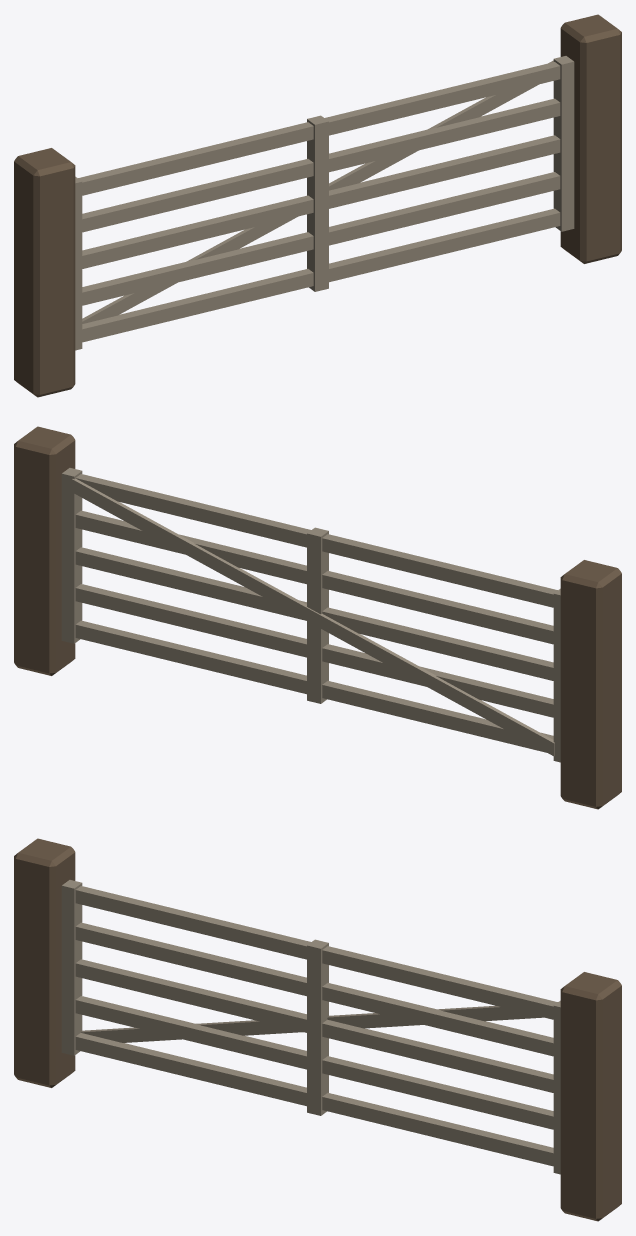
Rendered from land_gate.glb.
3 views of the same model, one above another, from view 1: azimuth 30°, elevation 25°; view 2: azimuth 150°, elevation 25°; view 3: azimuth 330°, elevation 25° (orthographic).
Parts seen in each view (by area): view 1: land_gate; view 2: land_gate; view 3: land_gate.
Boxes of the visible parts, box(x1,y1,x2,y2) form: land_gate: box(14, 14, 621, 397); land_gate: box(14, 426, 621, 809); land_gate: box(14, 838, 621, 1221).
Size of the model in its own units: 4.2 by 1.55 by 0.3.
